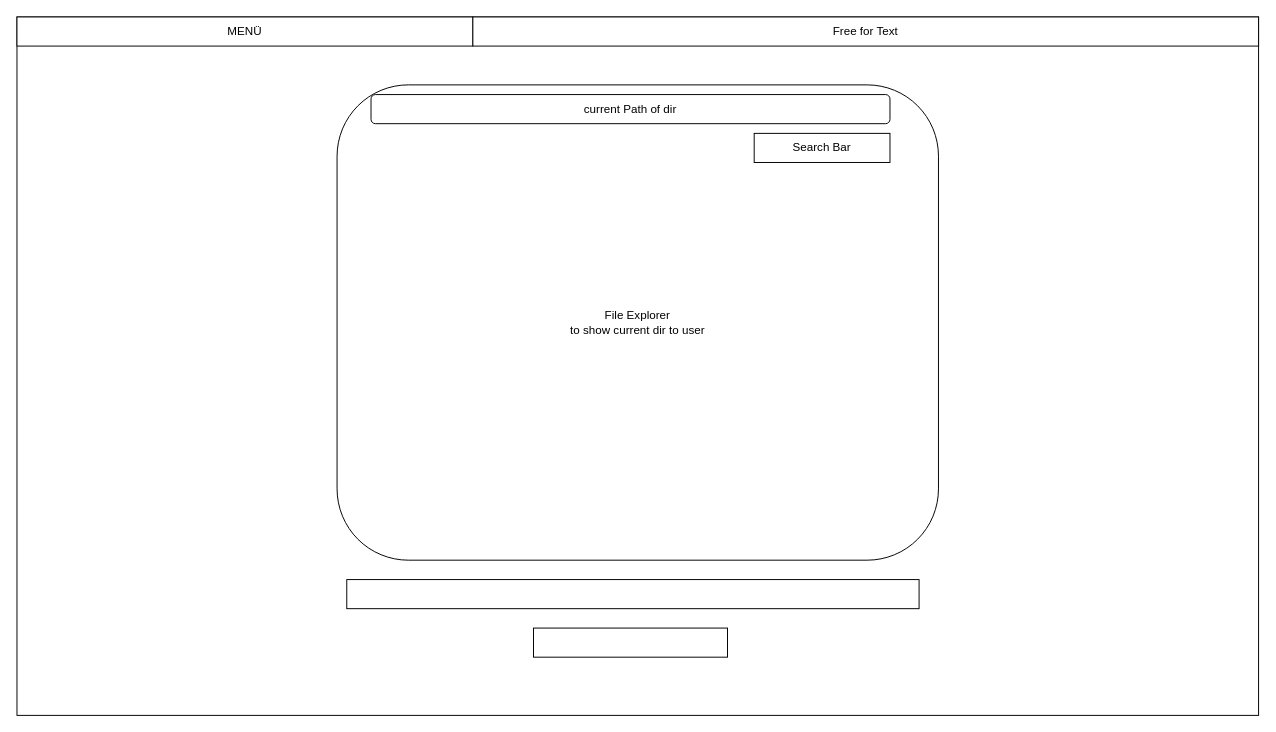
This 1276x732 diagram has some shape labels left out. Each missing label, with the centre of its shape:
"Filename - input field" belongs at point (632, 594).
"Save selected AAS" belongs at point (630, 642).
